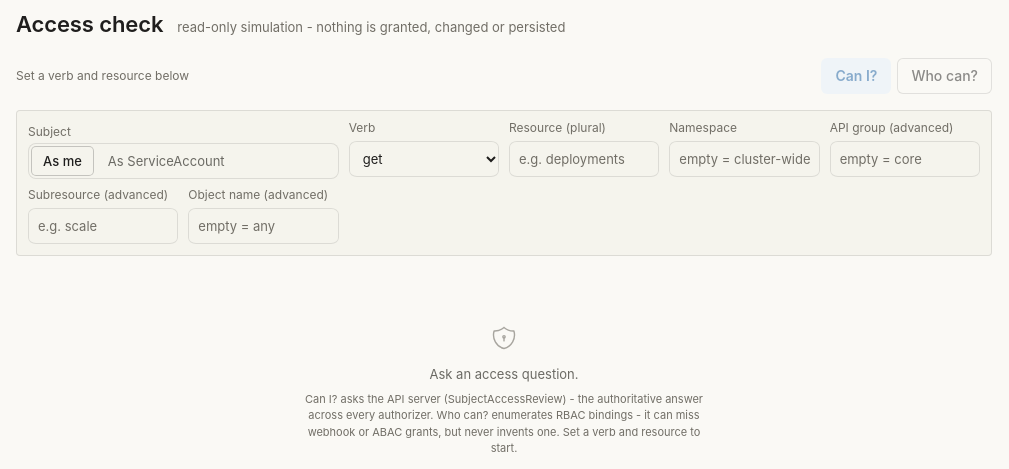
Test: AccessView (redesign step 5) › editing the form marks the answer as answering a previous question
This screenshot has width=1009, height=469.
In the field named "resource": (584, 159) [509, 139, 659, 179], type "deployments"
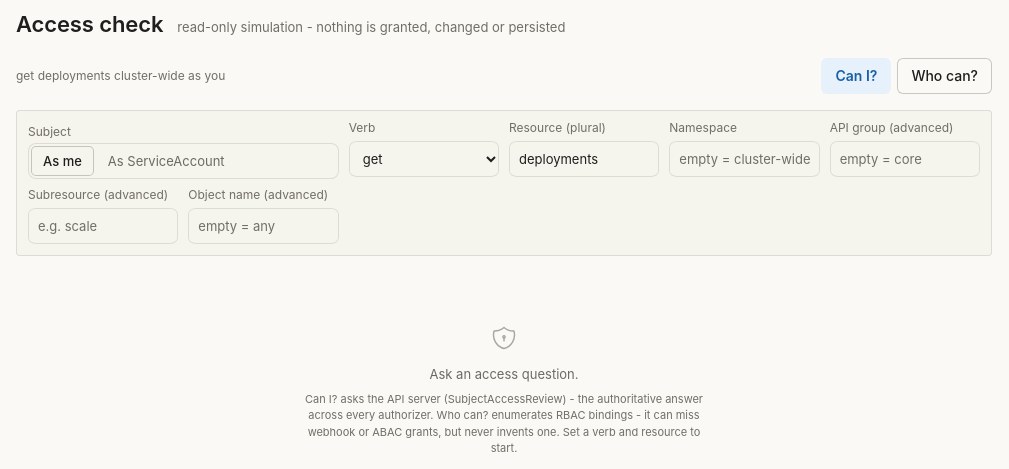
Click the button "Can I?": (856, 76) [821, 58, 891, 94]
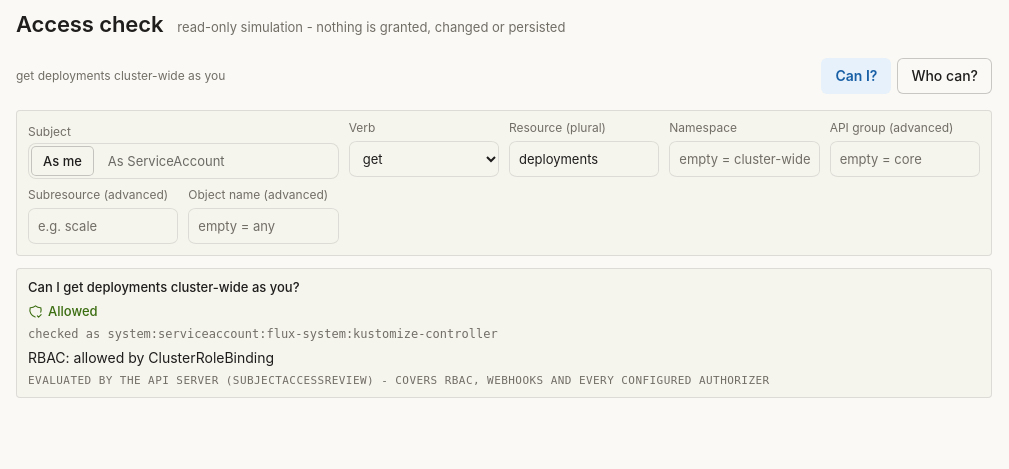
Expected: the text "The form has changed since this answer" is not shown
Expected: the text "Allowed" is shown, [28, 302, 98, 320]
Replace the text in the field named "resource" with "secrets": (584, 159) [509, 139, 659, 179]
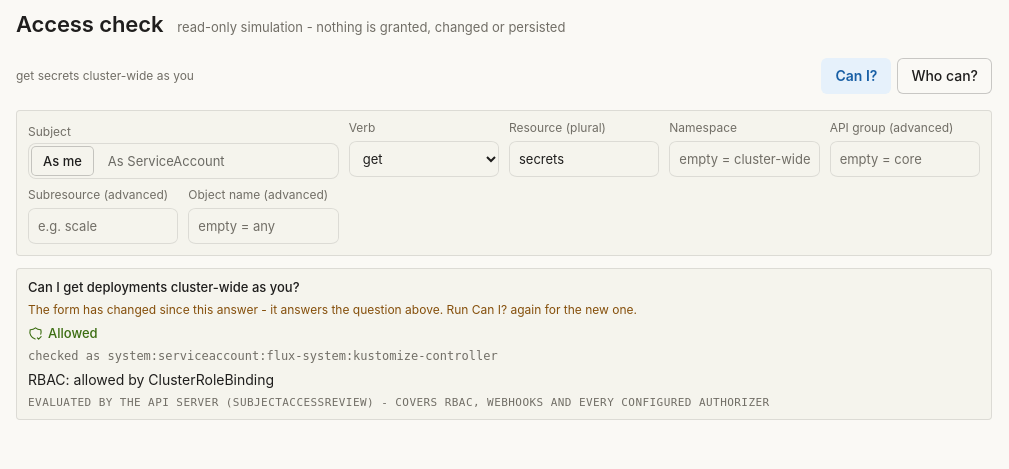
Expected: the text "Can I get deployments cluster-wide as you?" is shown, [28, 279, 300, 295]
Expected: the text "The form has changed since this answer" is shown, [28, 302, 637, 317]
